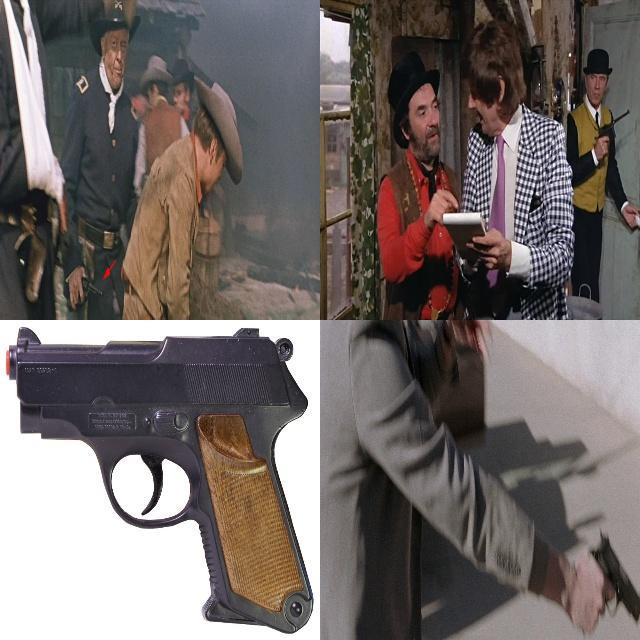gun-knife-thesis - v11 Yolov5 augmented: (8, 321, 316, 634), (575, 532, 639, 633), (588, 108, 628, 164), (65, 262, 100, 309)
